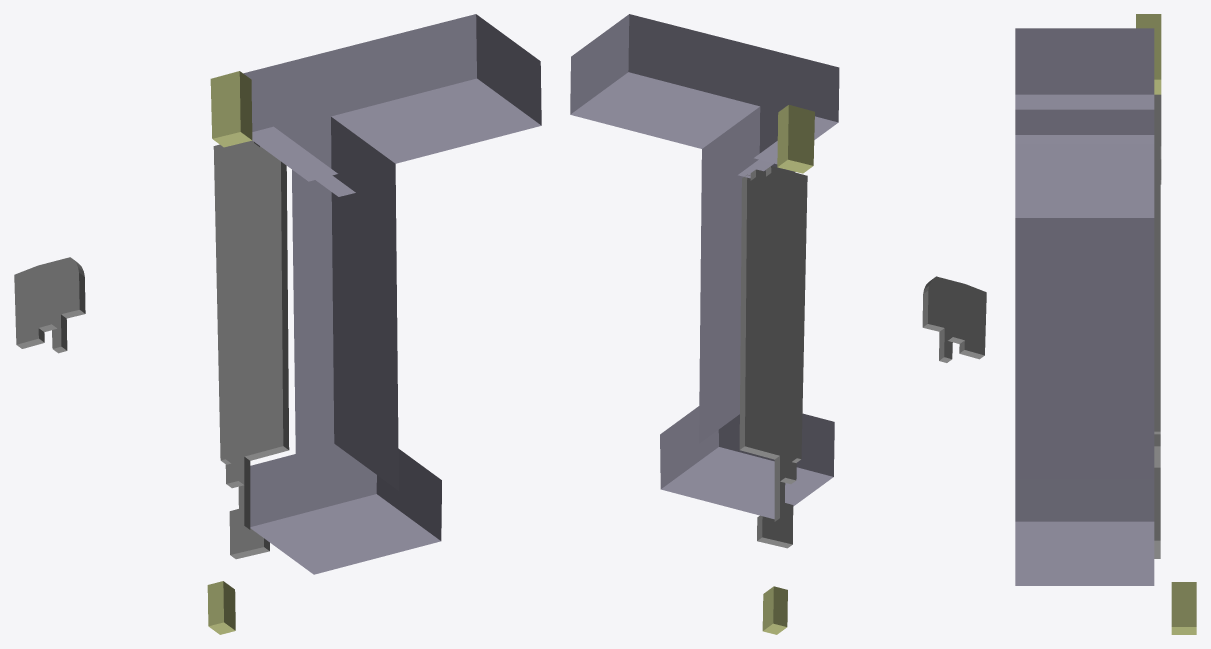
3 views of the same model, side by side, from view 1: azimuth 30°, elevation 25°; view 2: azimuth 150°, elevation 25°; view 3: azimuth 270°, elevation 25° (orthographic). The views are drawn at different scales.
Parts seen in each view (by area): view 1: 0_0_2_0_1_0_1; view 2: 0_0_2_0_1_0_1; view 3: 0_0_2_0_1_0_1.
Part boxes in pixels (x1=…): 0_0_2_0_1_0_1: x1=14, y1=14, x2=541, y2=634; 0_0_2_0_1_0_1: x1=570, y1=14, x2=986, y2=634; 0_0_2_0_1_0_1: x1=1015, y1=14, x2=1196, y2=634.
Size of the model in its own units: 135 by 160 by 43.1.
